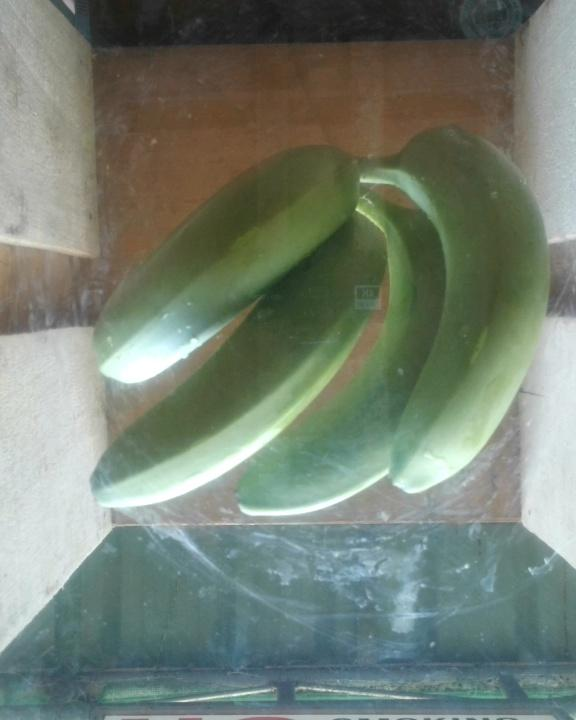SPOT: (82, 121, 559, 522)
